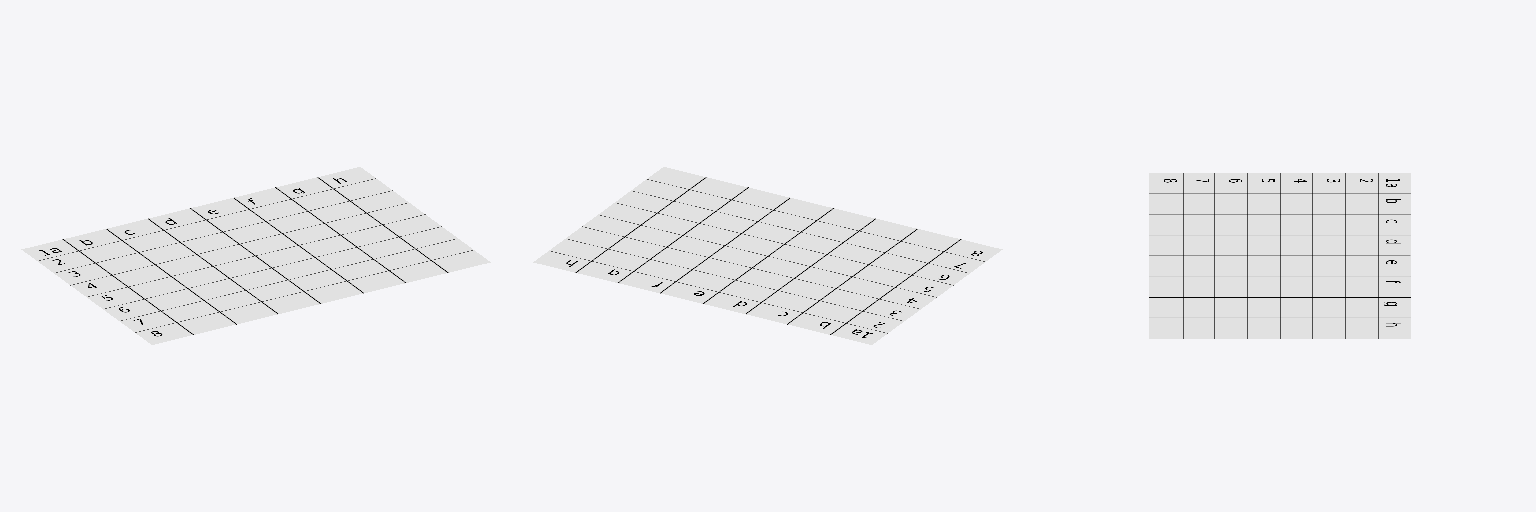
The picture shows the model from 3 angles: view 1: azimuth 30°, elevation 25°; view 2: azimuth 150°, elevation 25°; view 3: azimuth 270°, elevation 25°; orthographic projection.
Visible parts, largest first — view 1: Plane; view 2: Plane; view 3: Plane.
Boxes of the visible parts, <box> form: Plane: <box>21,167,490,344</box>; Plane: <box>533,167,1002,344</box>; Plane: <box>1149,173,1410,338</box>.
Size of the model in its own units: 6 by 0 by 4.
Materials: 1 (1 with a texture image).